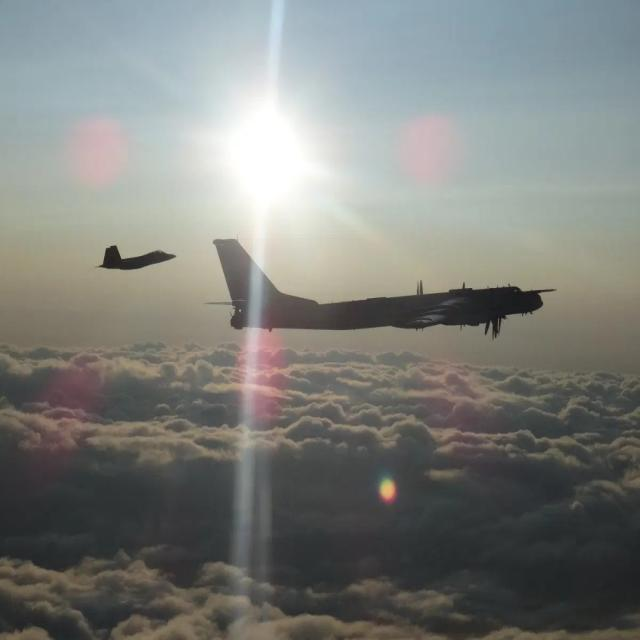MIL_Plane: (203, 234, 557, 341), (94, 245, 176, 270)
